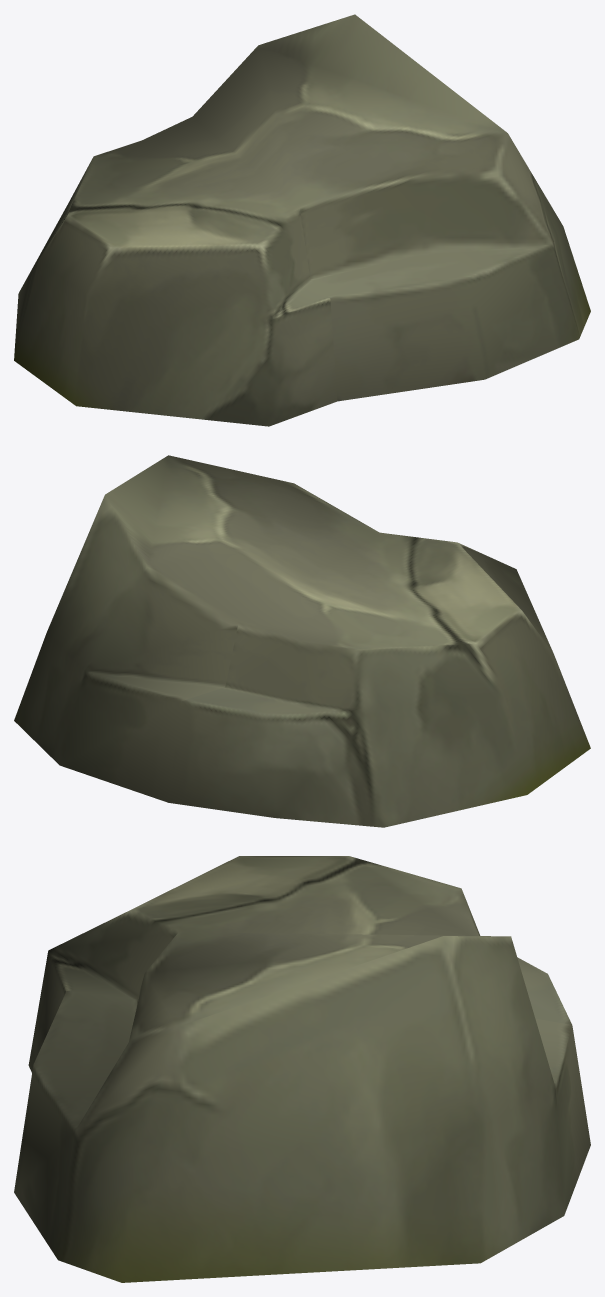
File: ROK0110020.fbx
The picture shows the model from 3 angles, top to bottom: view 1: azimuth 30°, elevation 25°; view 2: azimuth 150°, elevation 25°; view 3: azimuth 270°, elevation 25°; orthographic projection. The views are drawn at different scales.
Visible parts, largest first — view 1: smROK0110020; view 2: smROK0110020; view 3: smROK0110020.
Boxes of the visible parts, x1,y1,x2,y2 form: smROK0110020: [14, 14, 590, 426]; smROK0110020: [14, 455, 590, 827]; smROK0110020: [14, 856, 590, 1282].
Size of the model in its own units: 199 by 89.71 by 166.
1 material, 1 textured.
